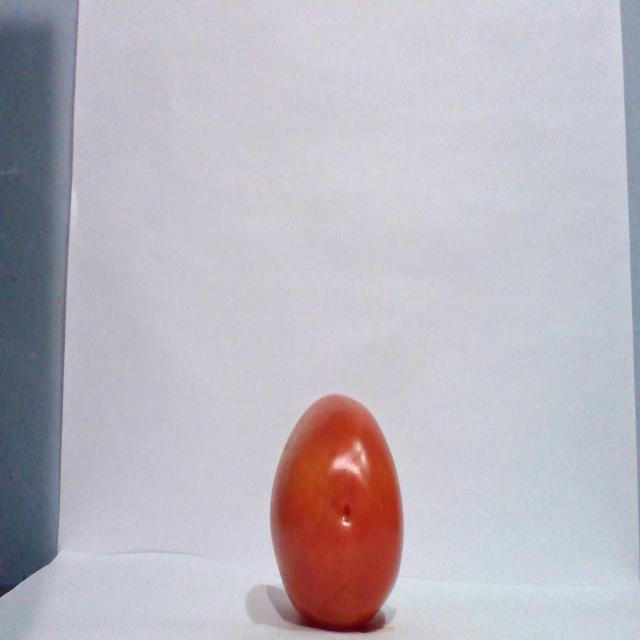Red: (267, 392, 404, 630)
